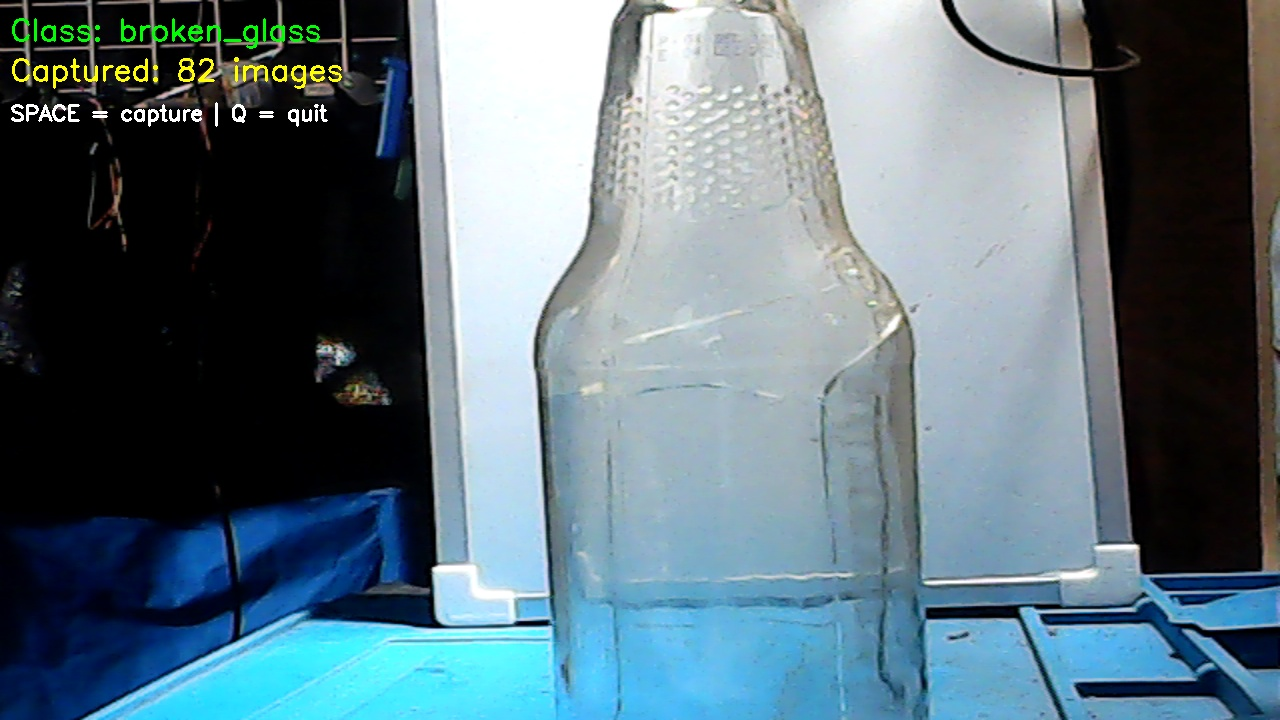broken_glass: (519, 6, 929, 694)
